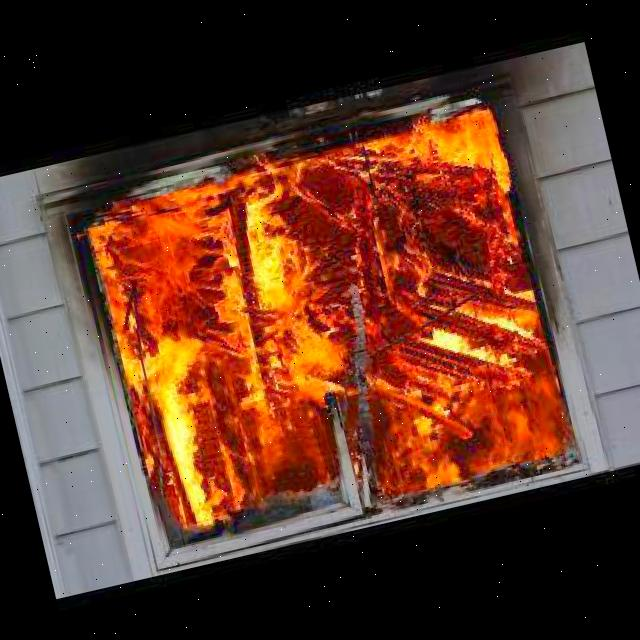fire: (76, 96, 582, 554)
